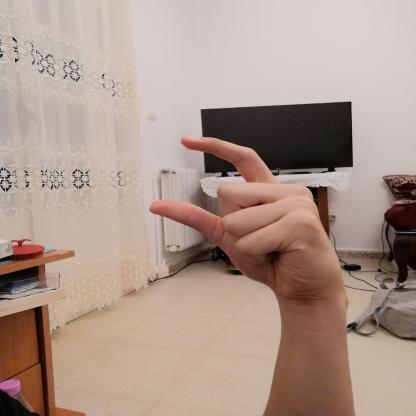DELL: (134, 125, 349, 304)
